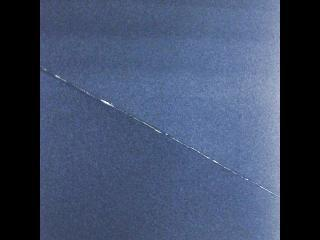crack: (41, 65, 278, 197)
